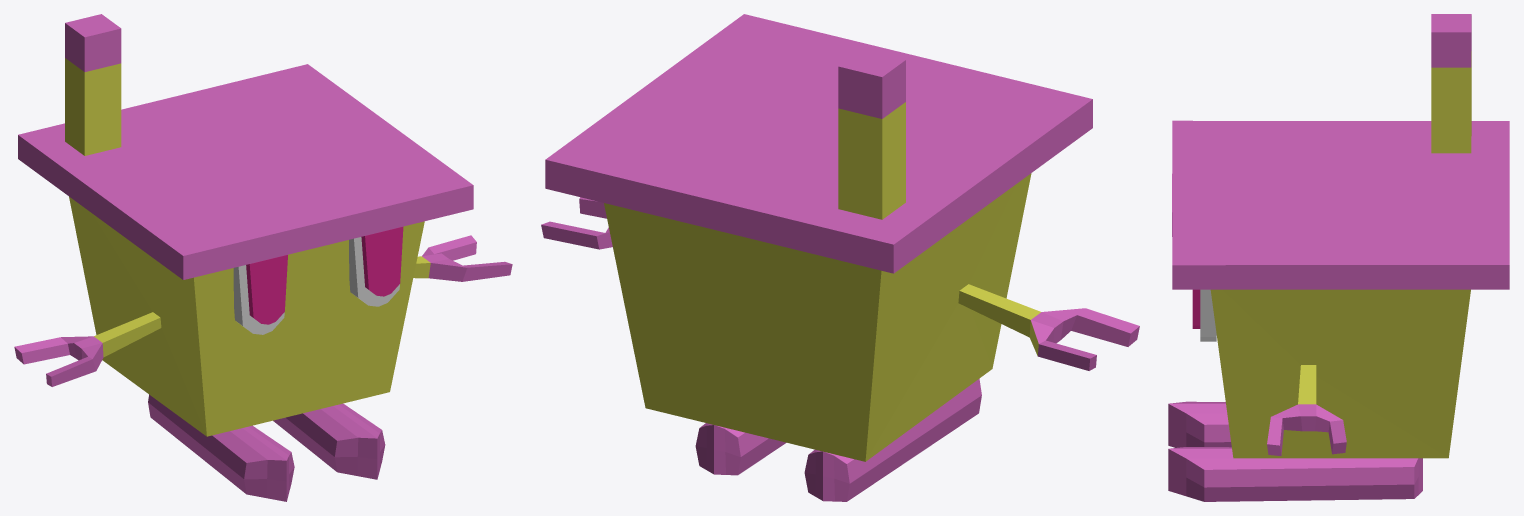
Rendered from Roboto.fbx.
3 views of the same model, side by side, from view 1: azimuth 30°, elevation 25°; view 2: azimuth 150°, elevation 25°; view 3: azimuth 270°, elevation 25° (orthographic). The views are drawn at different scales.
Visible parts, largest first — view 1: Cube.002, Cube.000; view 2: Cube.002; view 3: Cube.002, Cube.000.
Part boxes in pixels (x1,y1,x2,y2): Cube.002: (14,14,512,501); Cube.000: (233,226,403,334); Cube.002: (541,14,1139,501); Cube.002: (1168,14,1509,501); Cube.000: (1192,289,1216,341).
Size of the model in its own units: 504 by 405 by 317.
